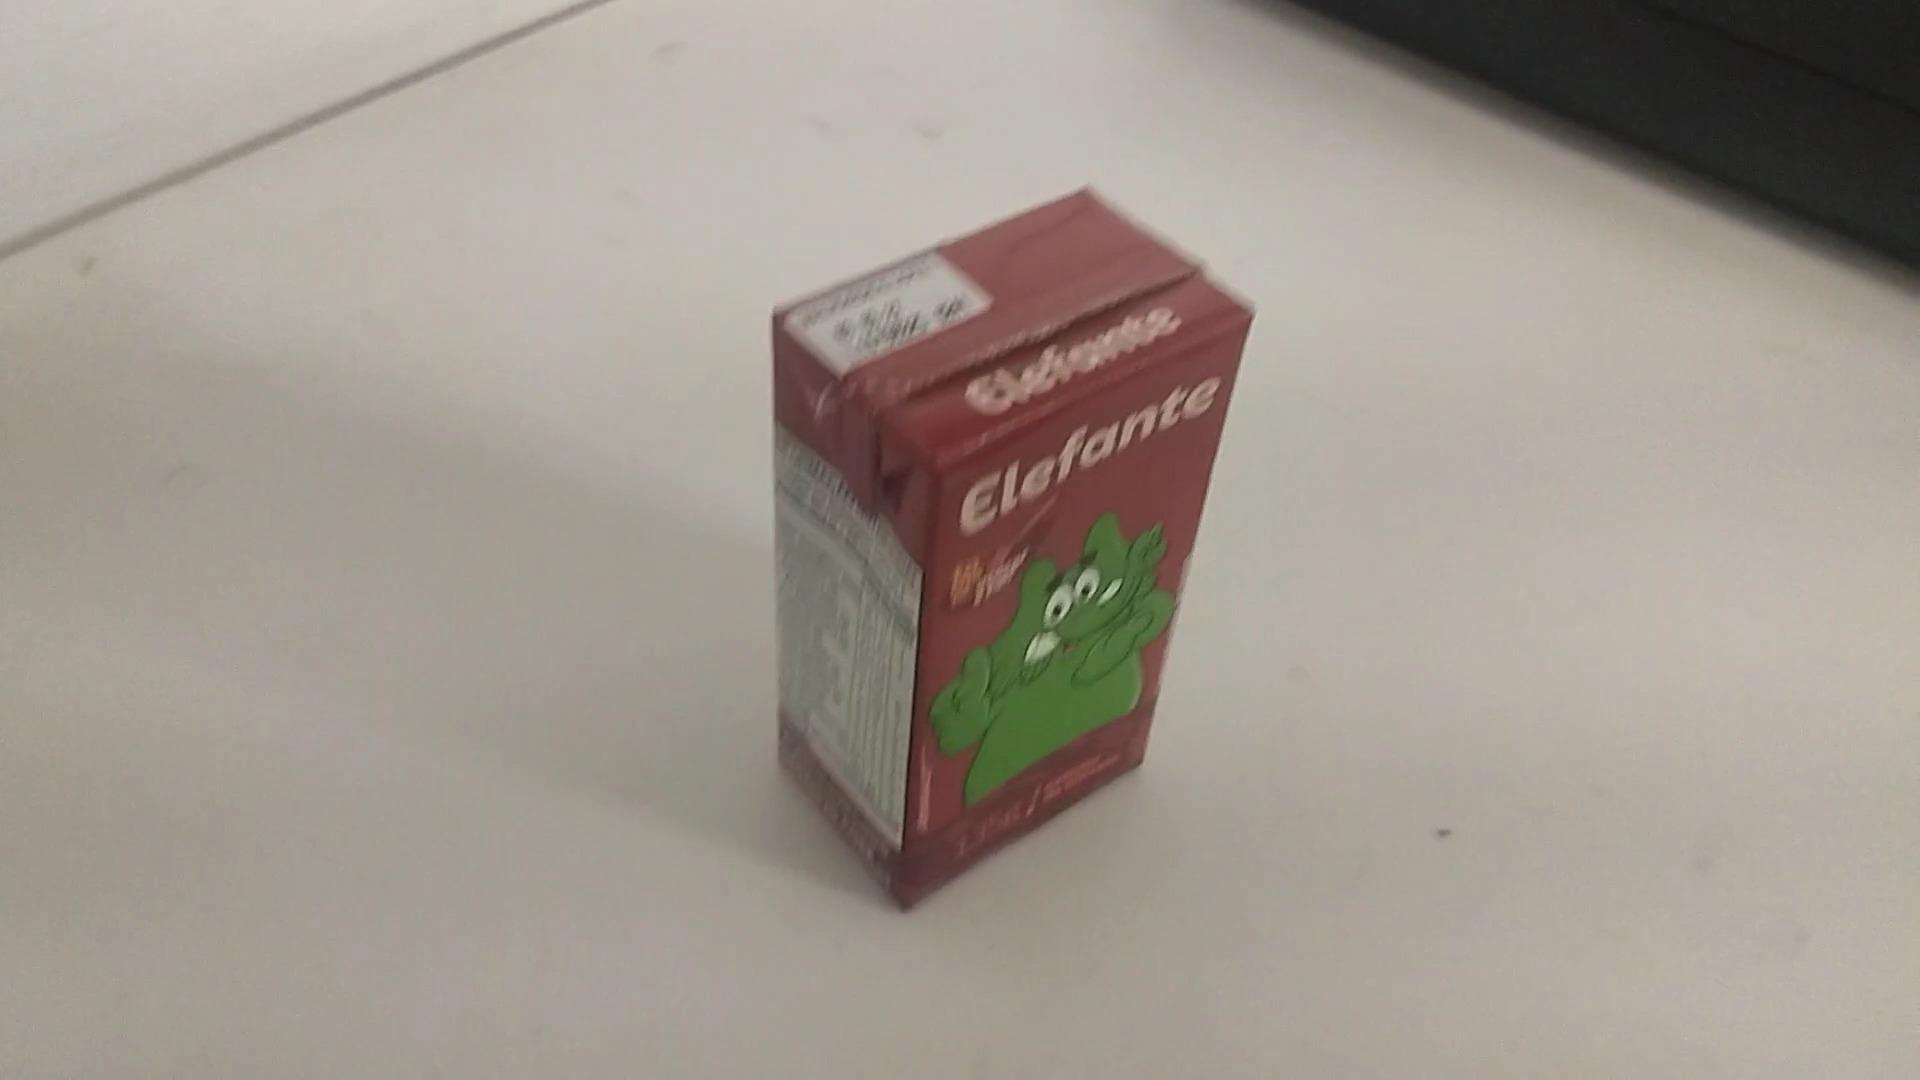tomate: (754, 165, 1266, 909)
